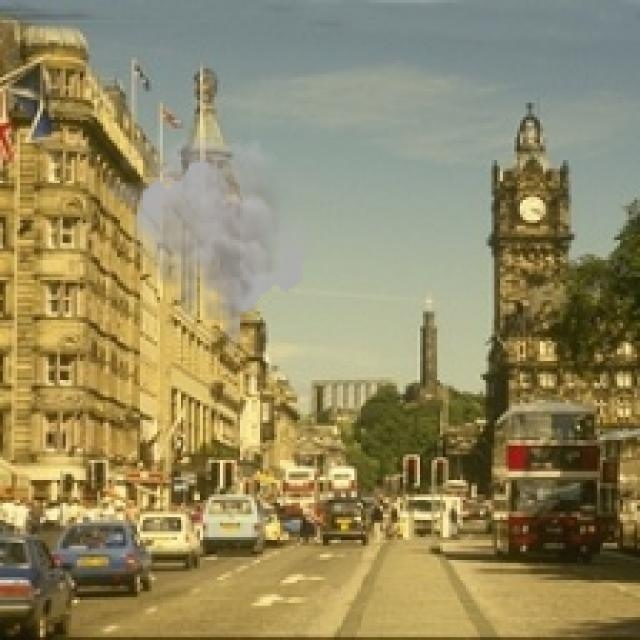smoke: (103, 129, 314, 357)
